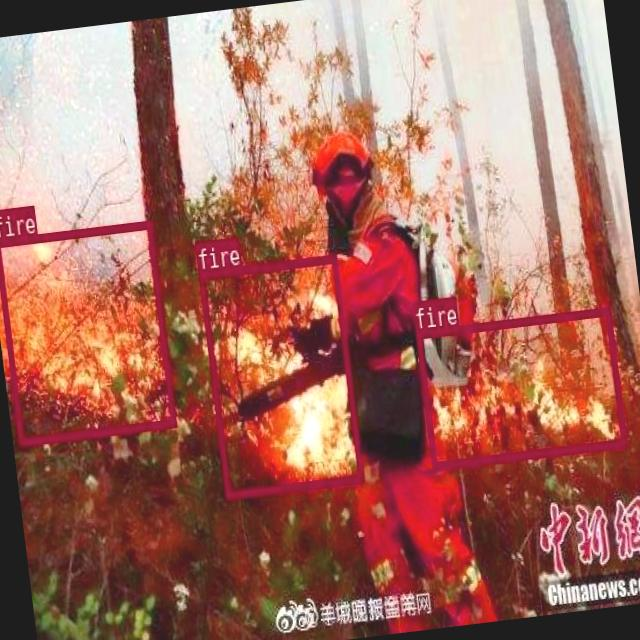fire: (197, 252, 363, 498), (0, 219, 175, 445), (414, 304, 625, 470)
